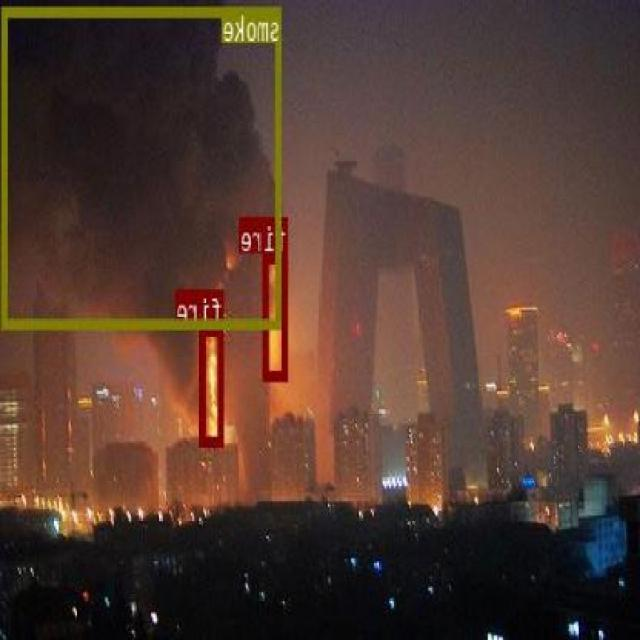fire: (264, 252, 288, 380), (202, 324, 224, 446)
smoke: (4, 5, 282, 328)
